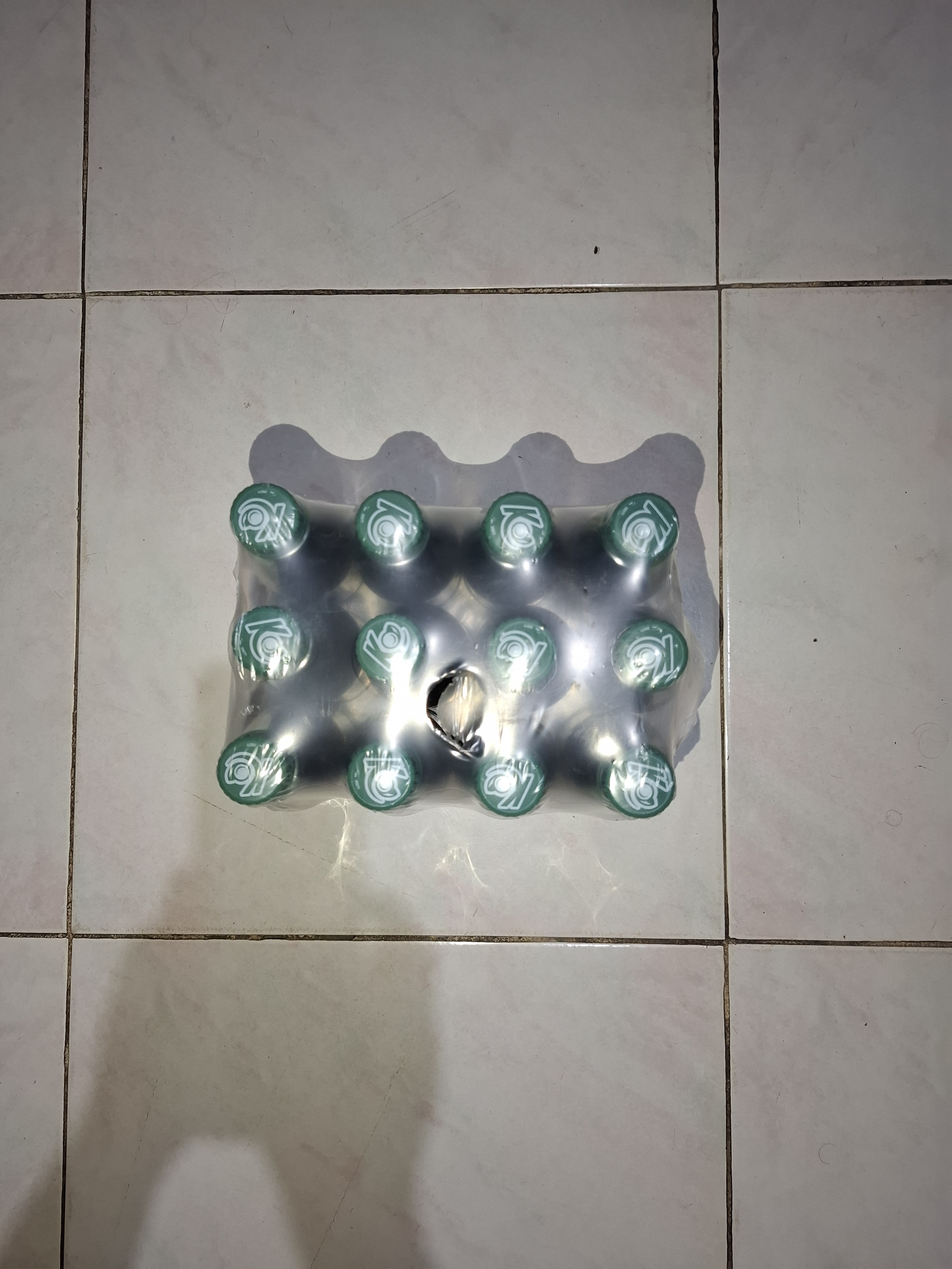Tampa Refrigerante Kuat: (476, 605, 563, 698), (227, 600, 316, 690), (224, 471, 313, 558), (213, 725, 297, 812), (355, 481, 432, 574), (345, 725, 420, 816), (613, 611, 691, 697), (352, 607, 428, 687), (482, 493, 555, 575), (605, 743, 678, 823), (473, 740, 548, 816), (604, 491, 677, 568)
